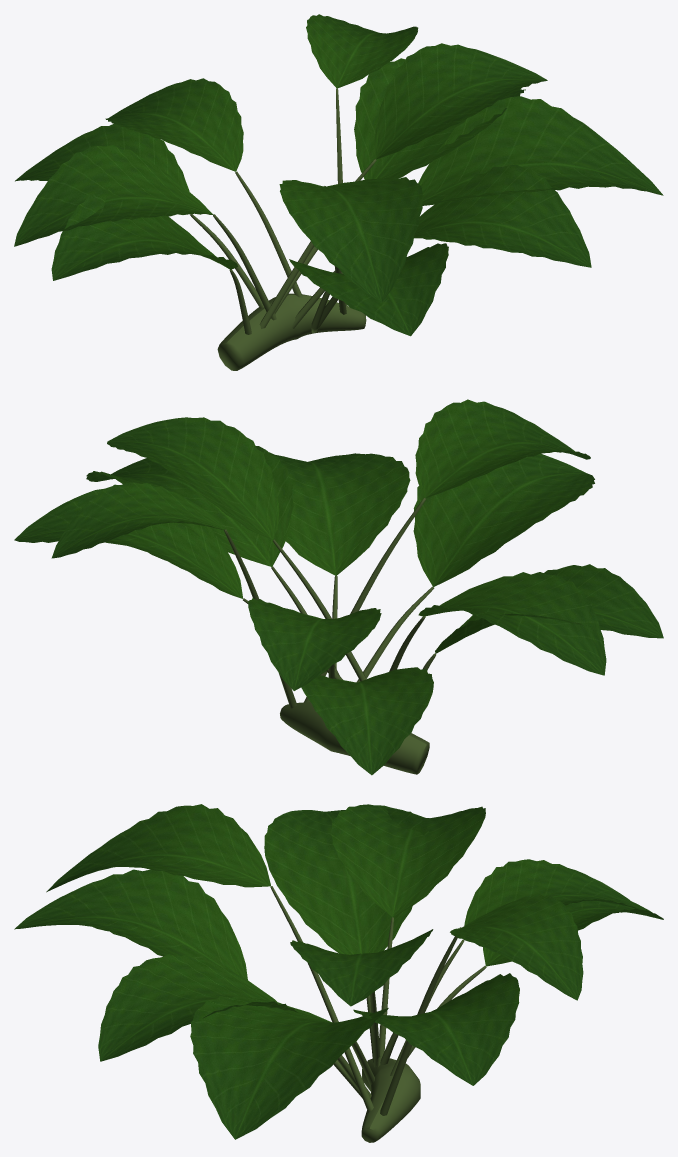
File: plant-broadleaf.glb
3 renders of one model, top to bottom at view 1: azimuth 30°, elevation 25°; view 2: azimuth 150°, elevation 25°; view 3: azimuth 270°, elevation 25°, orthographic. The views are drawn at different scales.
Parts seen in each view (by area): view 1: Anubias · cupped venated leaves · export mesh; view 2: Anubias · cupped venated leaves · export mesh; view 3: Anubias · cupped venated leaves · export mesh.
Boxes of the visible parts, box(x1,y1,x2,y2) form: Anubias · cupped venated leaves · export mesh: box(14, 14, 663, 370); Anubias · cupped venated leaves · export mesh: box(14, 399, 663, 775); Anubias · cupped venated leaves · export mesh: box(14, 804, 663, 1142).
Bounding box in the file's own units: 0.1643 × 0.0702 × 0.1492.
2 materials, 1 textured.
